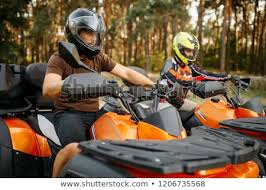helmet: (61, 7, 106, 53), (169, 27, 202, 68)
